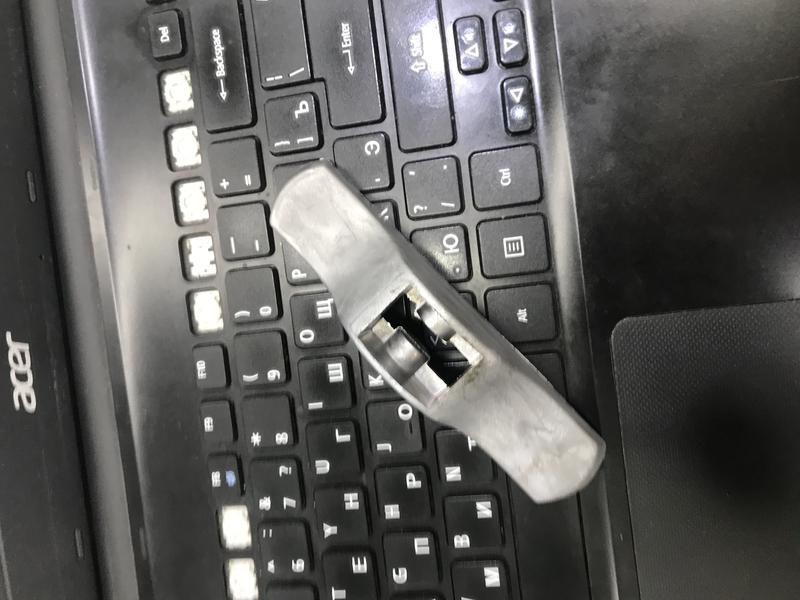zapchast: (252, 152, 617, 521)
